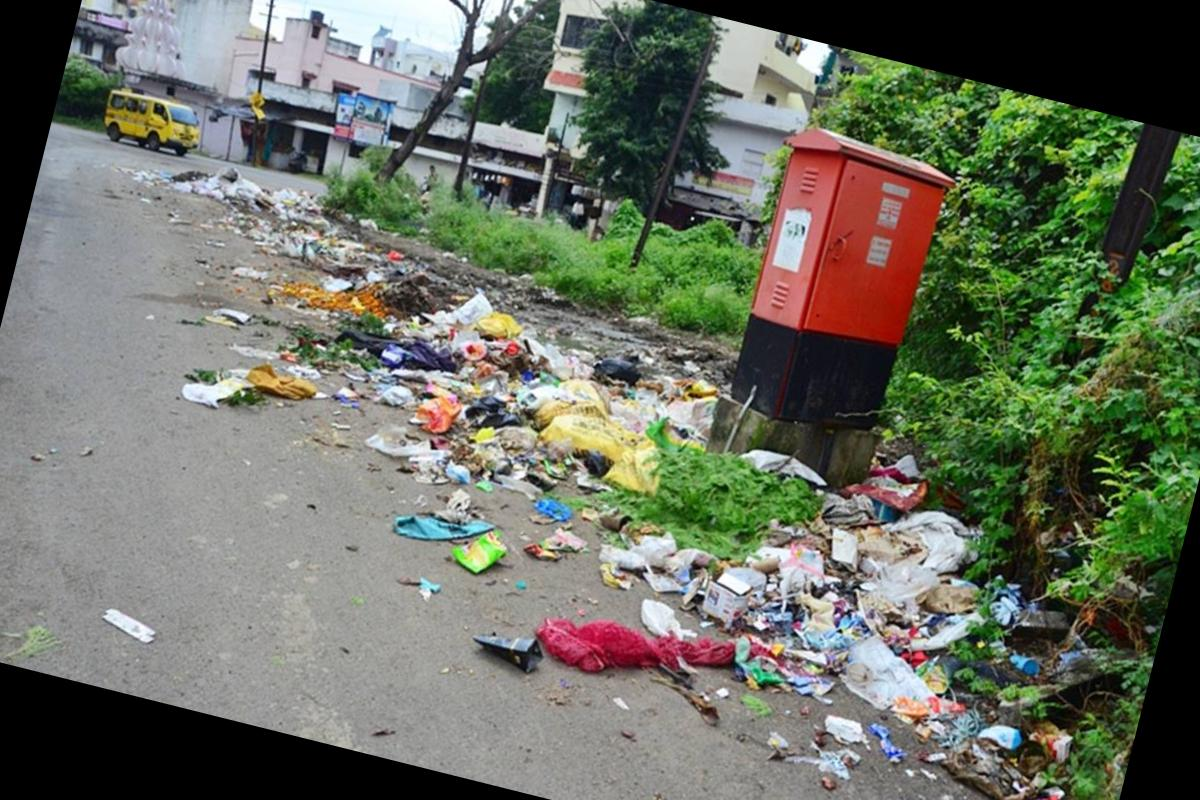road: (0, 125, 988, 800)
trash: (513, 379, 980, 666), (598, 529, 713, 594)
